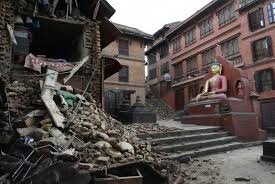rubble: (1, 70, 141, 162)
